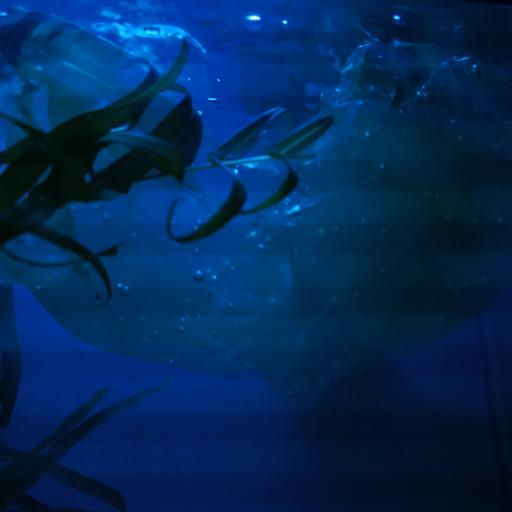plastic_bag: (0, 6, 512, 407)
